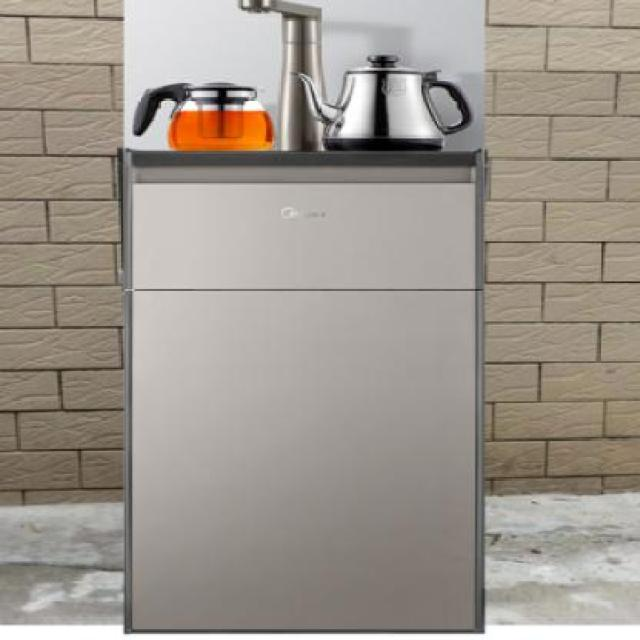cooler: (123, 0, 488, 640)
